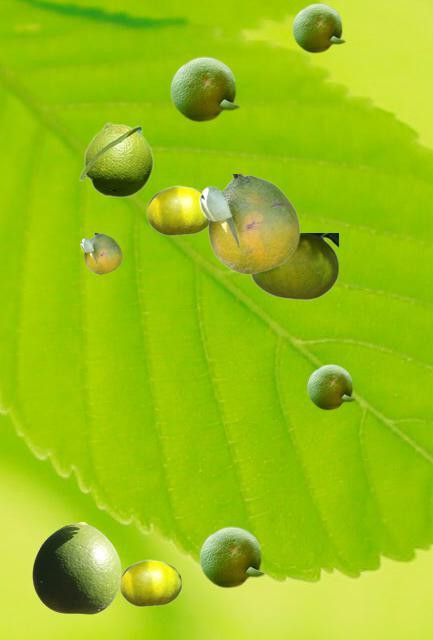dalandan: (198, 174, 299, 273), (32, 522, 120, 613), (249, 233, 337, 299), (78, 122, 153, 197), (169, 55, 240, 121), (198, 525, 265, 587), (146, 185, 207, 235), (119, 559, 181, 606), (291, 2, 345, 52), (306, 363, 355, 409), (80, 233, 121, 273)
